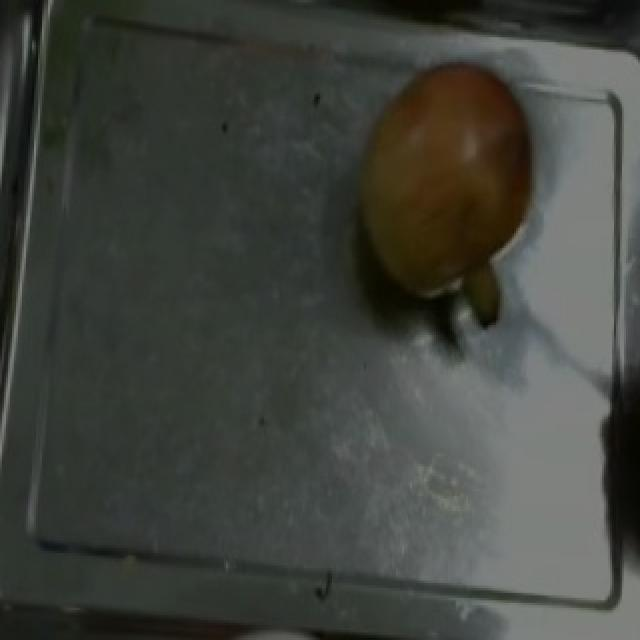fruit: (340, 42, 542, 310)
